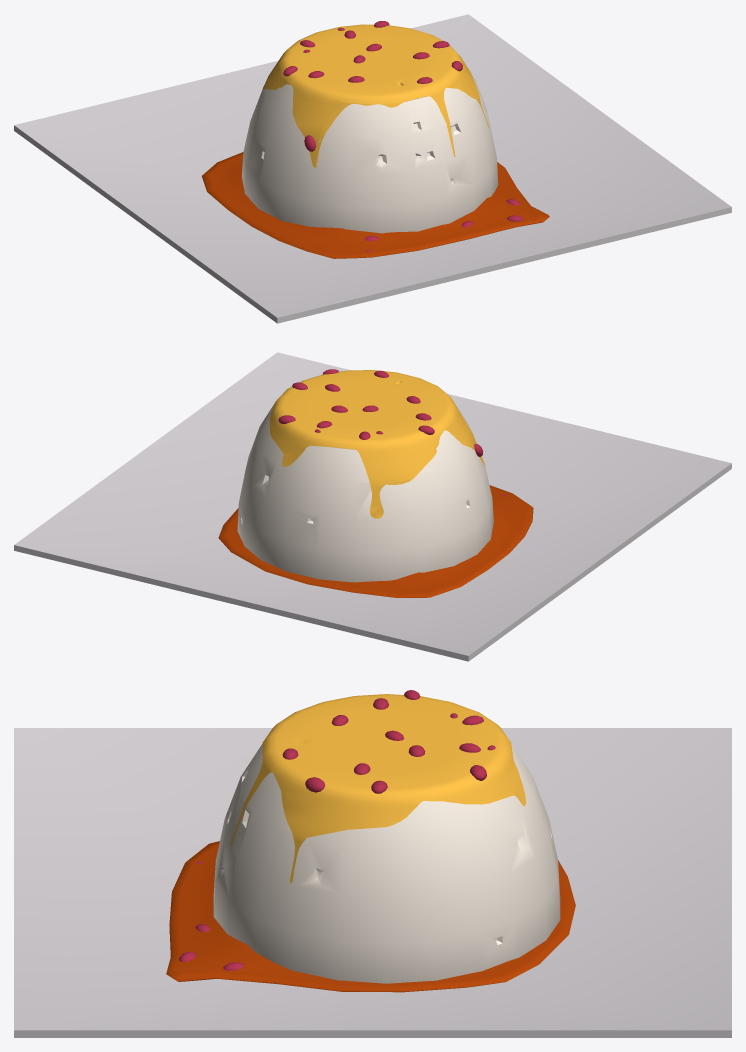
The model's file is Pudding_Reduce.fbx.
The picture shows the model from 3 angles, top to bottom: view 1: azimuth 30°, elevation 25°; view 2: azimuth 150°, elevation 25°; view 3: azimuth 270°, elevation 25°; orthographic projection. The views are drawn at different scales.
Parts seen in each view (by area): view 1: archmodels76_047_06, archmodels76_047_05, polySurface1, polySurface2, archmodels76_047_03; view 2: archmodels76_047_06, archmodels76_047_05, polySurface1, polySurface2, archmodels76_047_03; view 3: archmodels76_047_06, archmodels76_047_05, polySurface1, polySurface2, archmodels76_047_03.
Boxes of the visible parts, x1,y1,x2,y2 form: archmodels76_047_06: (14, 14, 731, 323); archmodels76_047_05: (242, 74, 498, 233); polySurface1: (262, 24, 489, 167); polySurface2: (202, 152, 549, 258); archmodels76_047_03: (283, 21, 523, 252); archmodels76_047_06: (14, 352, 731, 661); archmodels76_047_05: (237, 402, 493, 582); polySurface1: (269, 370, 485, 518); polySurface2: (218, 485, 533, 597); archmodels76_047_03: (278, 369, 507, 496); archmodels76_047_06: (14, 728, 731, 1037); archmodels76_047_05: (213, 744, 560, 983); polySurface1: (230, 694, 525, 883); polySurface2: (166, 841, 575, 992); archmodels76_047_03: (179, 690, 495, 970).
Size of the model in its own units: 15.52 by 4.48 by 15.57.
